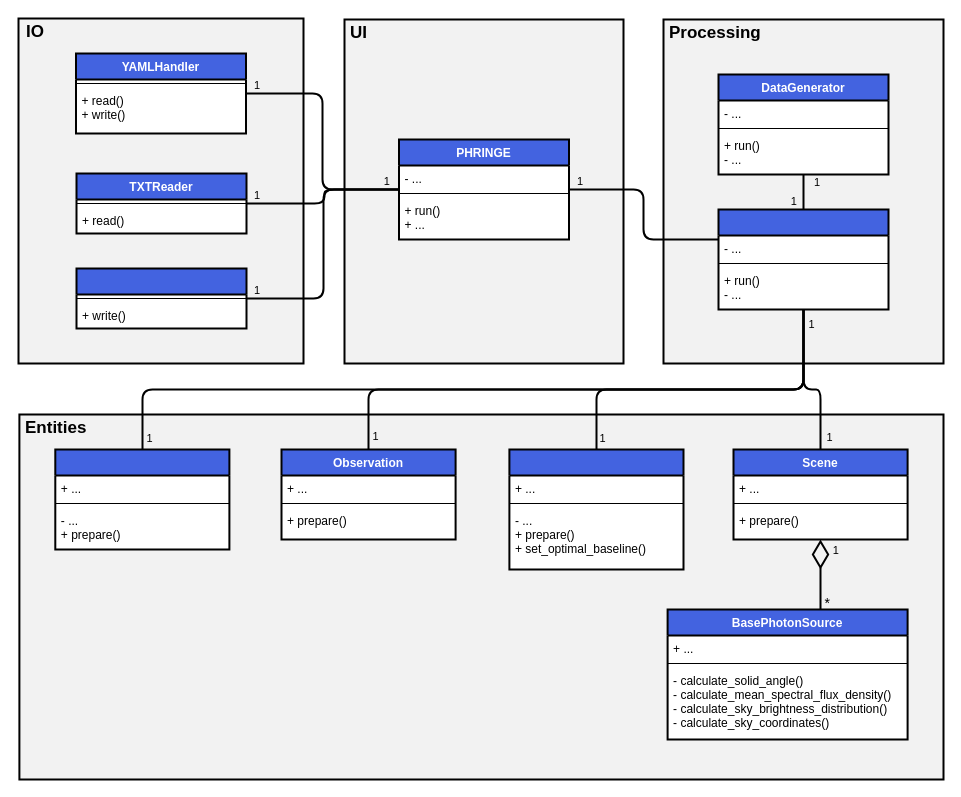
The diagram is 961 pixels wide and 797 high, and some of its shapes have lost their labels. The box of each missing label's shape, as (x1, y1, x2, y2) in pixels:
Director: (717, 208, 889, 310)
FITSWriter: (75, 267, 247, 329)
Observatory: (508, 448, 684, 570)
Settings: (54, 448, 230, 550)
